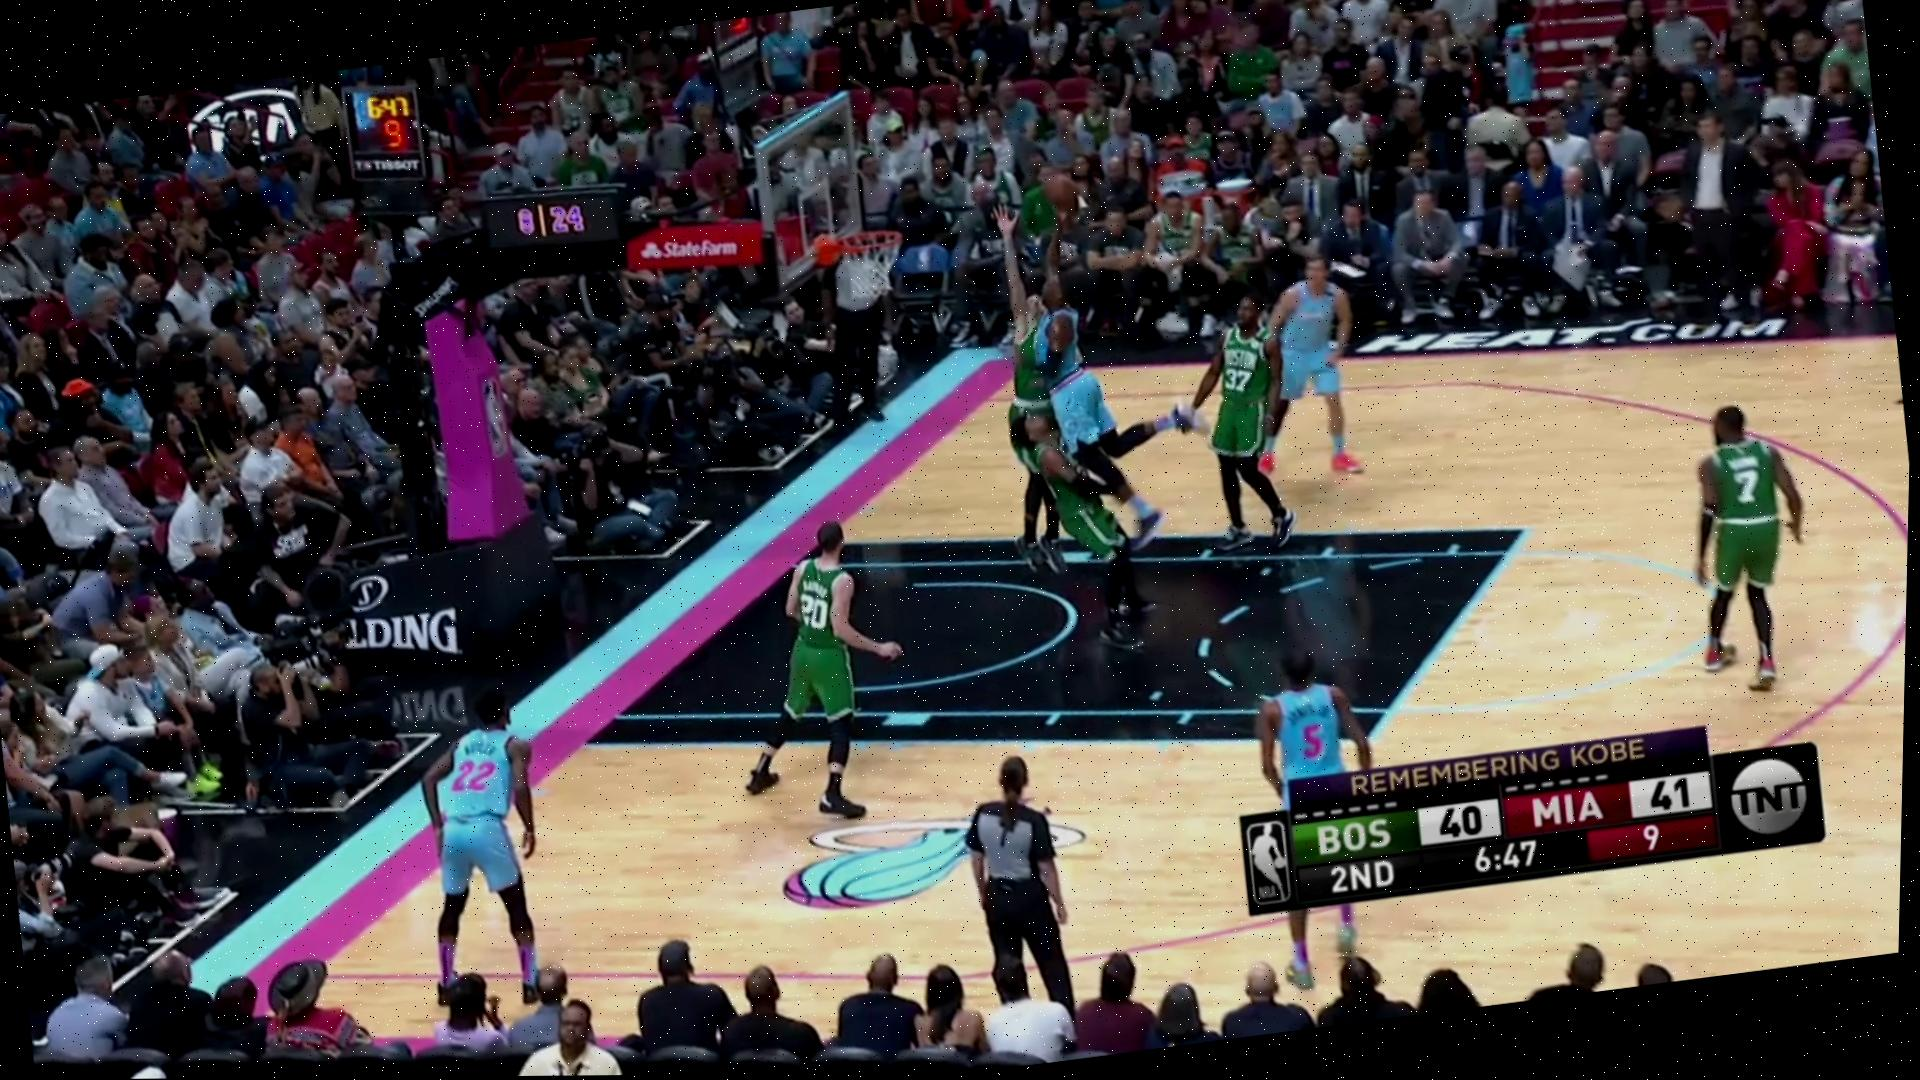foul: (989, 248, 1166, 591)
